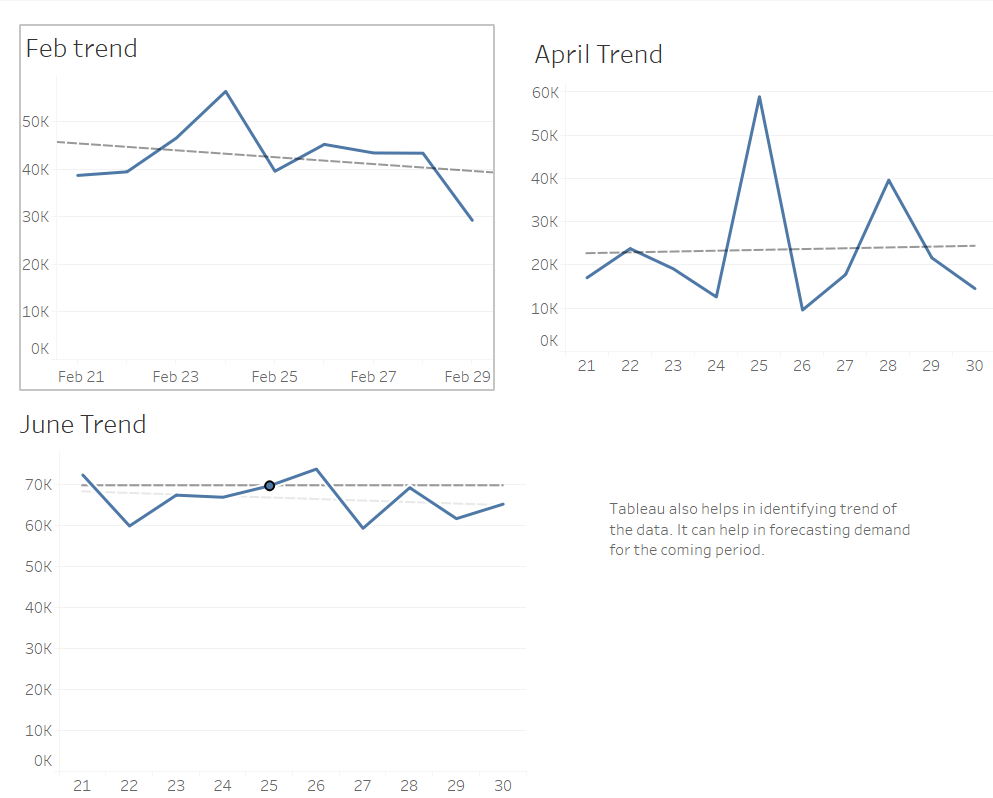

This screenshot's page, from the dashboard's own definition file:
{"tool":"tableau","page":{"name":"Trend","canvas":[1000,800],"ordinal":6},"visuals":[{"type":"worksheet","title":"April Trend","mark":"Automatic","rows":["F1 (apr.csv)"],"cols":["startdate (apr.csv)"],"box":[445,28,333,266]},{"type":"worksheet","title":"Feb trend","mark":"Automatic","rows":["F1 (feb.csv)"],"cols":["startdate (feb.csv)"],"box":[33,33,333,266]},{"type":"worksheet","box":[473,359,414,348]},{"type":"worksheet","title":"June Trend","mark":"Automatic","rows":["F1"],"cols":["startdate"],"box":[30,389,333,266]}]}

Visuals, with their boxes in screenshot pixels (x1, y1, x2, y2), scaled from the page's 1000x800 canvas onto the 993x798 screenshot:
"April Trend" worksheet: x1=442 y1=28 x2=773 y2=293
"Feb trend" worksheet: x1=33 y1=33 x2=363 y2=298
worksheet: x1=470 y1=358 x2=881 y2=705
"June Trend" worksheet: x1=30 y1=388 x2=360 y2=653
